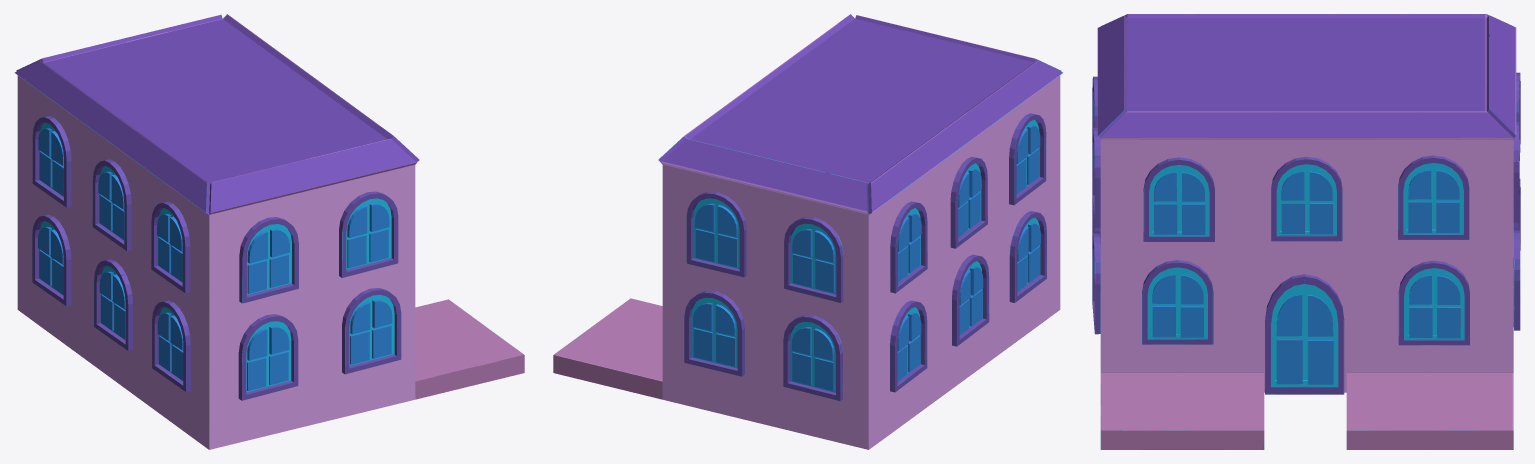
The model's file is Purple Buildingg.fbx.
3 views of the same model, side by side, from view 1: azimuth 30°, elevation 25°; view 2: azimuth 150°, elevation 25°; view 3: azimuth 270°, elevation 25° (orthographic). The views are drawn at different scales.
Visible parts, largest first — view 1: purple.001; view 2: purple.001; view 3: purple.001.
Part boxes in pixels (<box>): purple.001: <box>14,14,524,449</box>; purple.001: <box>553,14,1063,449</box>; purple.001: <box>1092,14,1520,449</box>.
Bounding box in the file's own units: 1552 × 1185 × 1662.
1 material, 1 textured.
